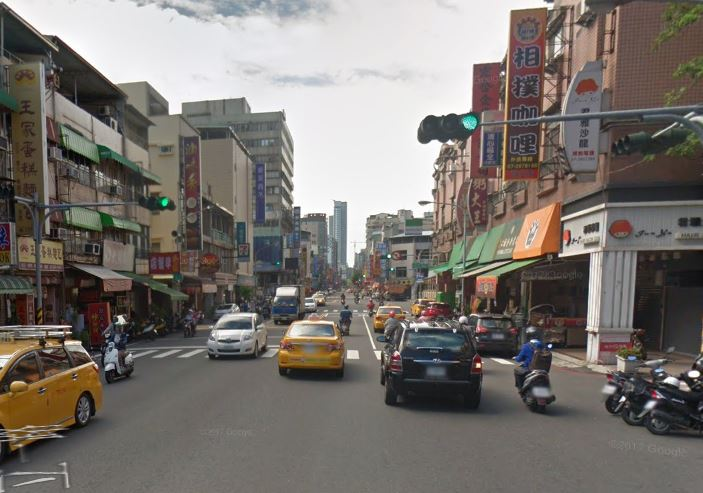Traffic_light_green: (416, 112, 479, 143), (136, 194, 176, 210)
car: (376, 319, 485, 418), (278, 316, 346, 380), (204, 310, 270, 364)
motorcycle: (513, 351, 560, 410), (99, 335, 137, 384)
